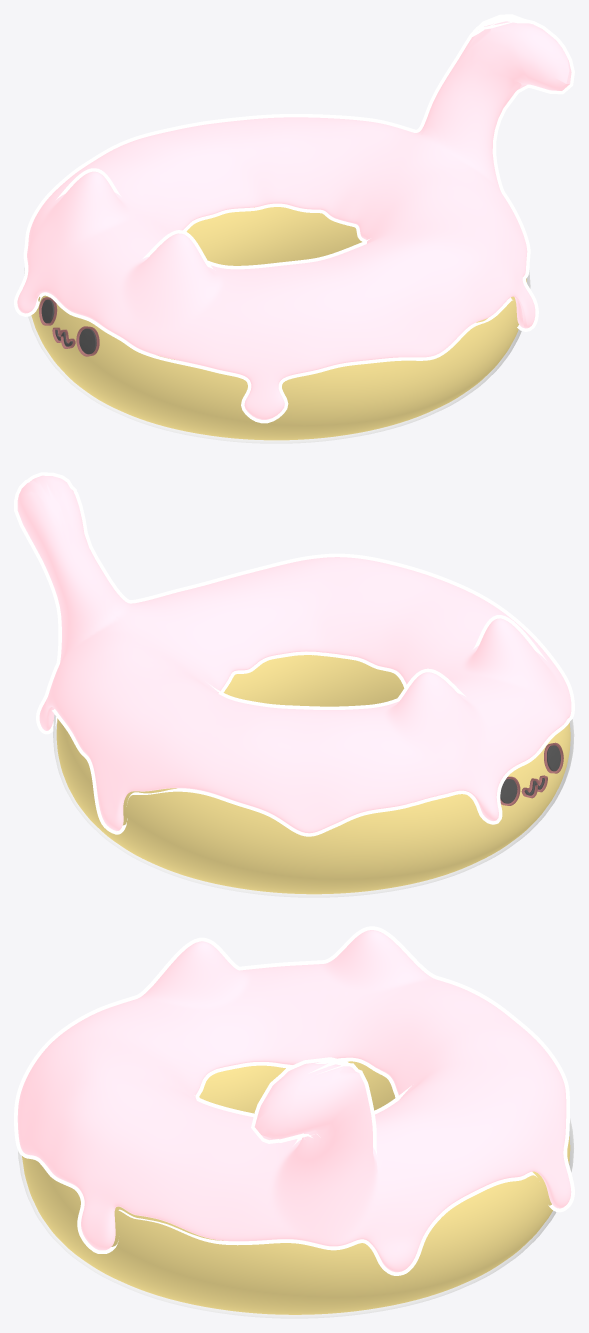
File: donut_cat_ver2.glb
3 renders of one model, top to bottom at view 1: azimuth 30°, elevation 25°; view 2: azimuth 150°, elevation 25°; view 3: azimuth 270°, elevation 25°, orthographic. The views are drawn at different scales.
Visible parts, largest first — view 1: polewka_0, donut_2, twarz_1; view 2: polewka_0, donut_2, twarz_1; view 3: polewka_0, donut_2.
Part boxes in pixels (bbox=[...]): polewka_0: bbox=[14, 14, 574, 423]; donut_2: bbox=[24, 207, 530, 443]; twarz_1: bbox=[39, 297, 99, 356]; polewka_0: bbox=[14, 472, 574, 836]; donut_2: bbox=[53, 655, 574, 897]; twarz_1: bbox=[500, 742, 563, 805]; polewka_0: bbox=[14, 926, 574, 1275]; donut_2: bbox=[18, 1061, 573, 1318].
Bounding box in the file's own units: 0.1707 × 0.0881 × 0.1479.
